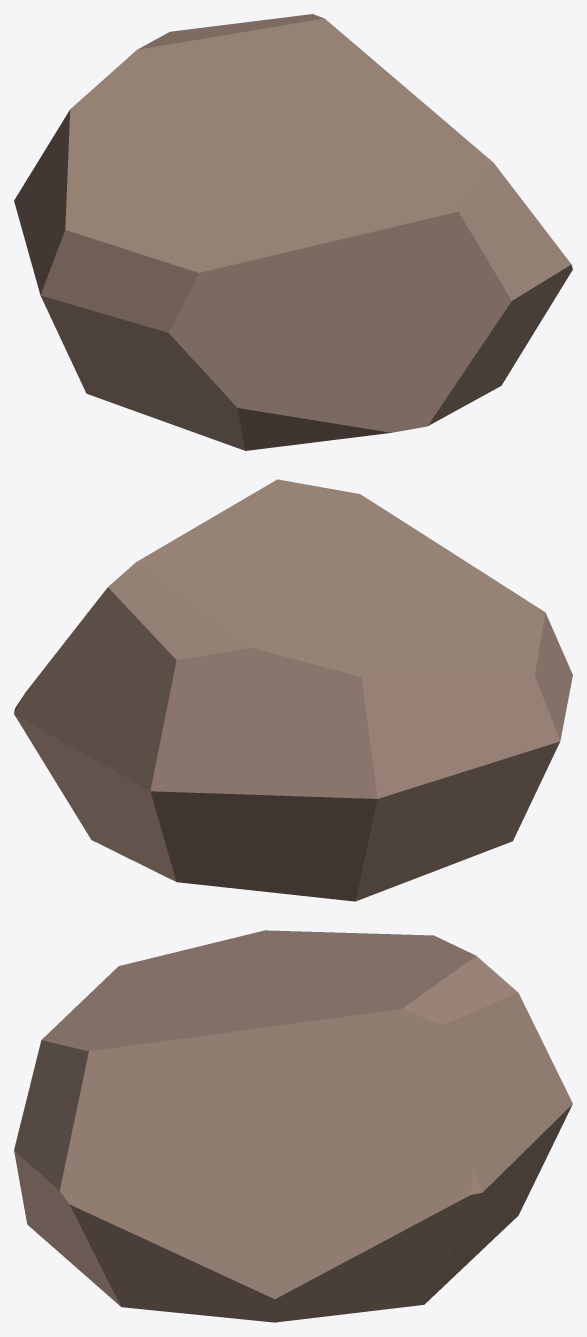
Rendered from rock_2.glb.
3 views of the same model, one above another, from view 1: azimuth 30°, elevation 25°; view 2: azimuth 150°, elevation 25°; view 3: azimuth 270°, elevation 25° (orthographic).
Visible parts, largest first — view 1: Rock.001; view 2: Rock.001; view 3: Rock.001.
Part boxes in pixels (x1,y1,x2,y2): Rock.001: [14, 14, 572, 450]; Rock.001: [14, 479, 572, 901]; Rock.001: [14, 930, 572, 1322].
Bounding box in the file's own units: 0.953 × 0.6143 × 0.9416.
